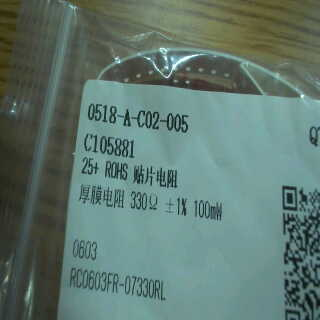330R: (126, 188, 160, 215)
